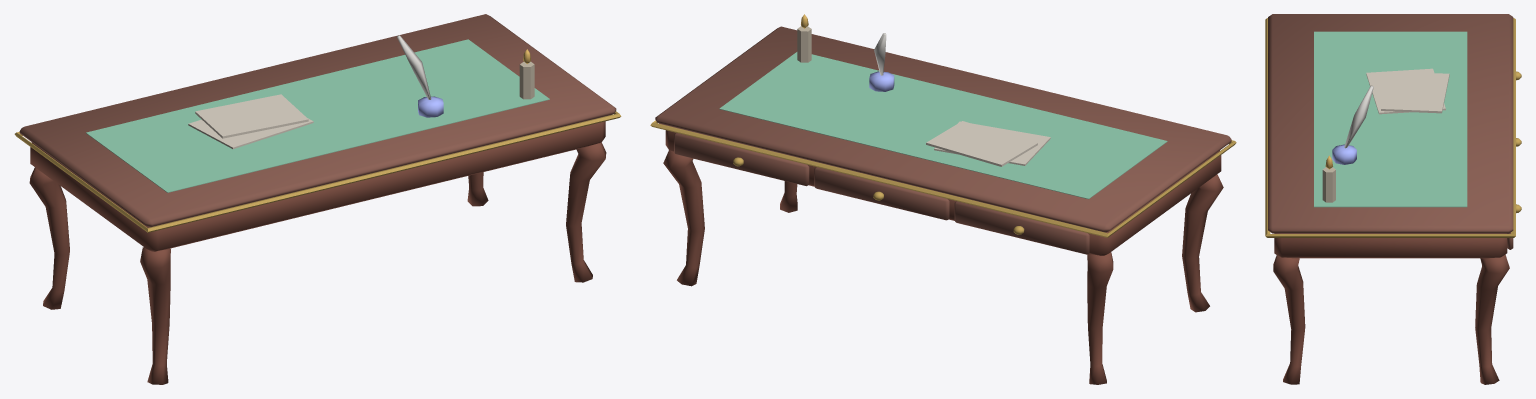
The model's file is desk_writing.glb.
The picture shows the model from 3 angles, left to right: view 1: azimuth 30°, elevation 25°; view 2: azimuth 150°, elevation 25°; view 3: azimuth 270°, elevation 25°; orthographic projection. The views are drawn at different scales.
Parts seen in each view (by area): view 1: desk_writing; view 2: desk_writing; view 3: desk_writing.
Part boxes in pixels (left/top/right/bottom): desk_writing: left=14, top=14, right=621, bottom=384; desk_writing: left=650, top=14, right=1236, bottom=384; desk_writing: left=1265, top=14, right=1521, bottom=384.
Size of what is drawn, in the model's own units: 1.6 by 0.8 by 0.8.
